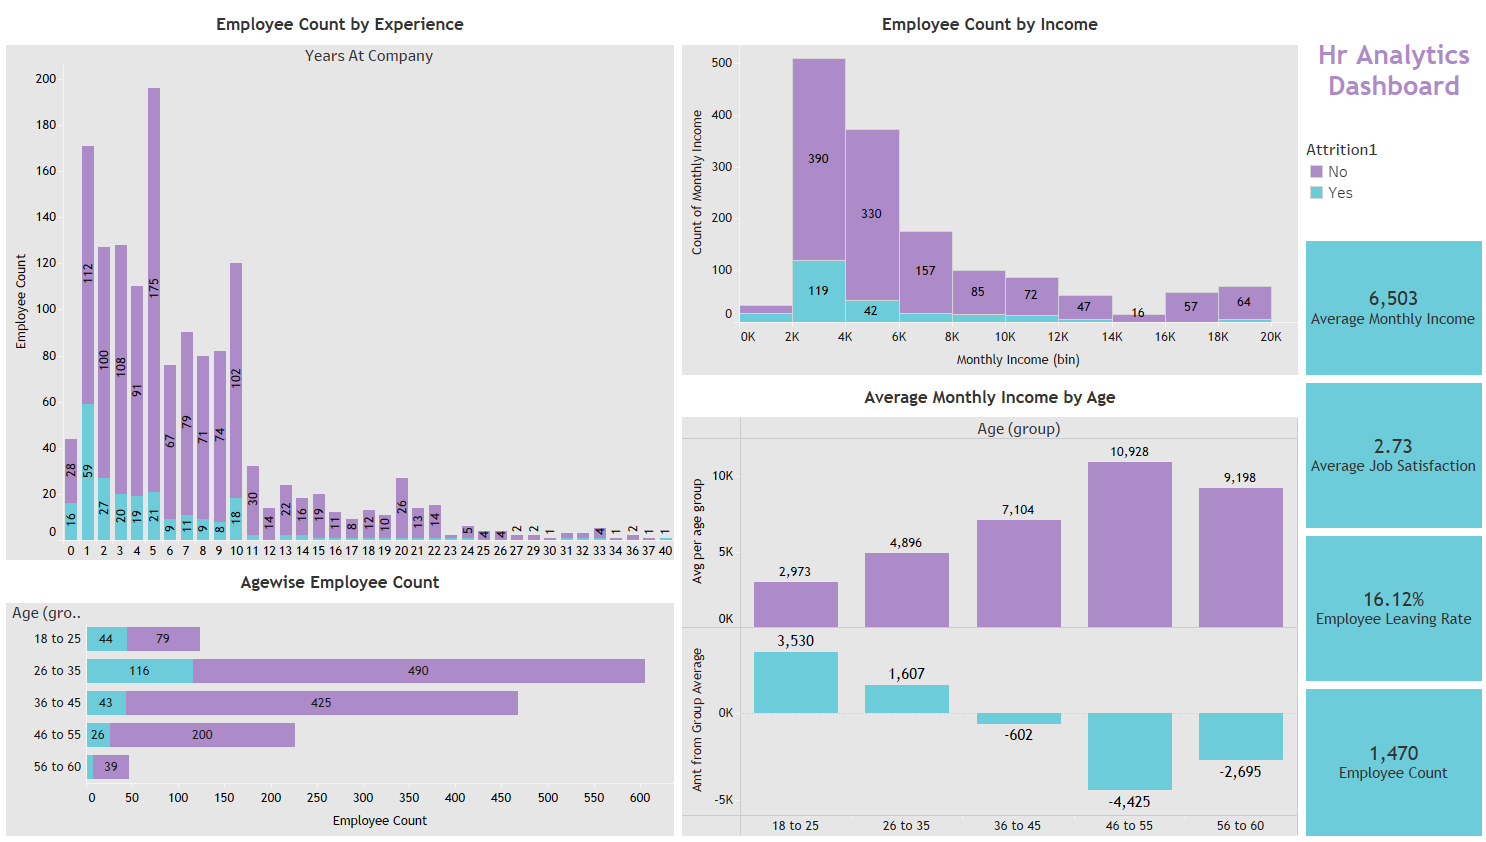

Layout of this report page (visuals, bound fields, positions):
{"tool":"tableau","page":{"name":"Dashboard 1","canvas":[1500,850],"ordinal":0},"visuals":[{"type":"worksheet","title":"Employee Count by Experience","mark":"Automatic","rows":["EmployeeCount"],"cols":["YearsAtCompany"],"box":[8,8,676,558]},{"type":"worksheet","title":"Employee Count by Income","mark":"Automatic","rows":["MonthlyIncome"],"cols":["Monthly Income (bin)"],"box":[684,8,624,373]},{"type":"text","box":[1308,8,184,129]},{"type":"legend","title":"Employee Count by Income","param":"[federated.014ox4g0z82k9b17pfhja059sxis].[none:Attrition:nk]","box":[1308,137,184,102]},{"type":"worksheet","title":"Avg Monthly Income","mark":"Automatic","box":[1308,239,184,142]},{"type":"worksheet","title":"Average Monthly Income by age","mark":"Automatic","rows":["Calculation_135107997507395584","Calculation_135107997507952642"],"box":[684,381,624,461]},{"type":"worksheet","title":"Job Satisfaction","mark":"Automatic","box":[1308,381,184,153]},{"type":"worksheet","title":"Attrition Rate","mark":"Automatic","box":[1308,534,184,153]},{"type":"worksheet","title":"AgeWise Employee Count","mark":"Automatic","cols":["EmployeeCount"],"box":[8,566,676,276]},{"type":"worksheet","title":"Total Employee Count","mark":"Automatic","box":[1308,687,184,155]}]}

Visuals, with their boxes in screenshot pixels (x1, y1, x2, y2), scaled from the page's 1500x850 canvas onto the 1486x842 screenshot:
"Employee Count by Experience" worksheet: {"x1": 8, "y1": 8, "x2": 678, "y2": 561}
"Employee Count by Income" worksheet: {"x1": 678, "y1": 8, "x2": 1296, "y2": 377}
text: {"x1": 1296, "y1": 8, "x2": 1478, "y2": 136}
"Employee Count by Income" legend: {"x1": 1296, "y1": 136, "x2": 1478, "y2": 237}
"Avg Monthly Income" worksheet: {"x1": 1296, "y1": 237, "x2": 1478, "y2": 377}
"Average Monthly Income by age" worksheet: {"x1": 678, "y1": 377, "x2": 1296, "y2": 834}
"Job Satisfaction" worksheet: {"x1": 1296, "y1": 377, "x2": 1478, "y2": 529}
"Attrition Rate" worksheet: {"x1": 1296, "y1": 529, "x2": 1478, "y2": 681}
"AgeWise Employee Count" worksheet: {"x1": 8, "y1": 561, "x2": 678, "y2": 834}
"Total Employee Count" worksheet: {"x1": 1296, "y1": 681, "x2": 1478, "y2": 834}
